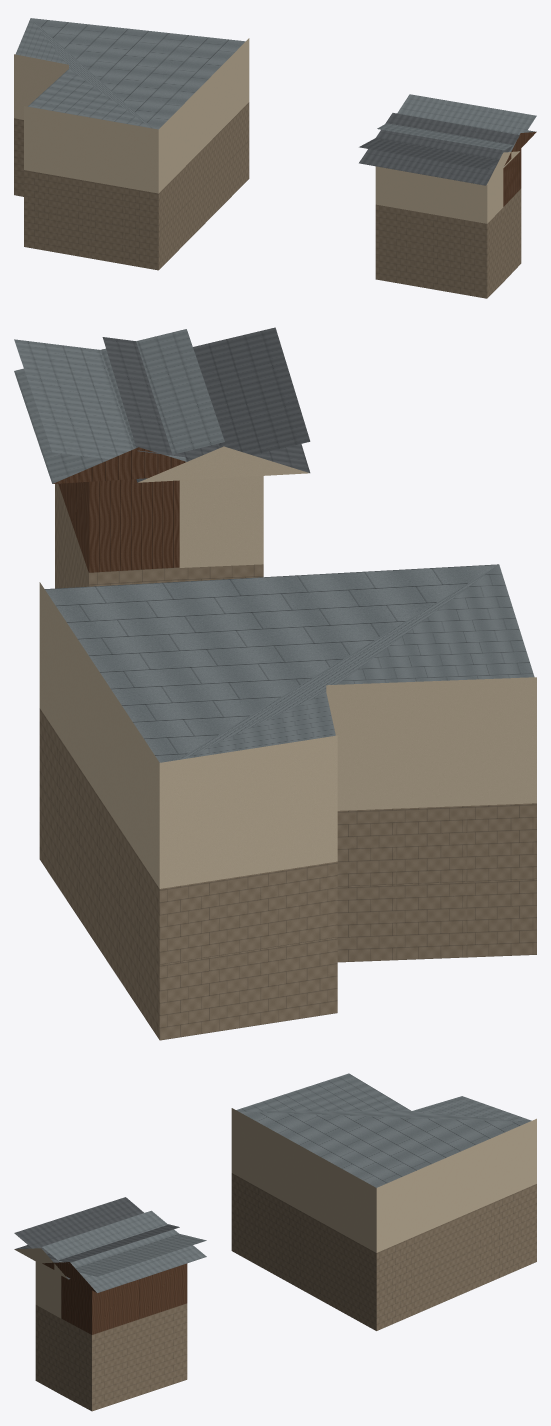
File: bld_c-7_21_609.gltf
3 renders of one model, top to bottom at view 1: azimuth 30°, elevation 25°; view 2: azimuth 150°, elevation 25°; view 3: azimuth 270°, elevation 25°, orthographic. The views are drawn at different scales.
Visible parts, largest first — view 1: bld_c-7_21_609; view 2: bld_c-7_21_609; view 3: bld_c-7_21_609.
Part boxes in pixels (box(x1,y1,x2,y2)): bld_c-7_21_609: box(14, 18, 536, 298); bld_c-7_21_609: box(14, 327, 536, 1040); bld_c-7_21_609: box(14, 1073, 536, 1411).
Size of the model in its own units: 25.38 by 9.68 by 29.05.
Materials: 7 (7 with a texture image).
